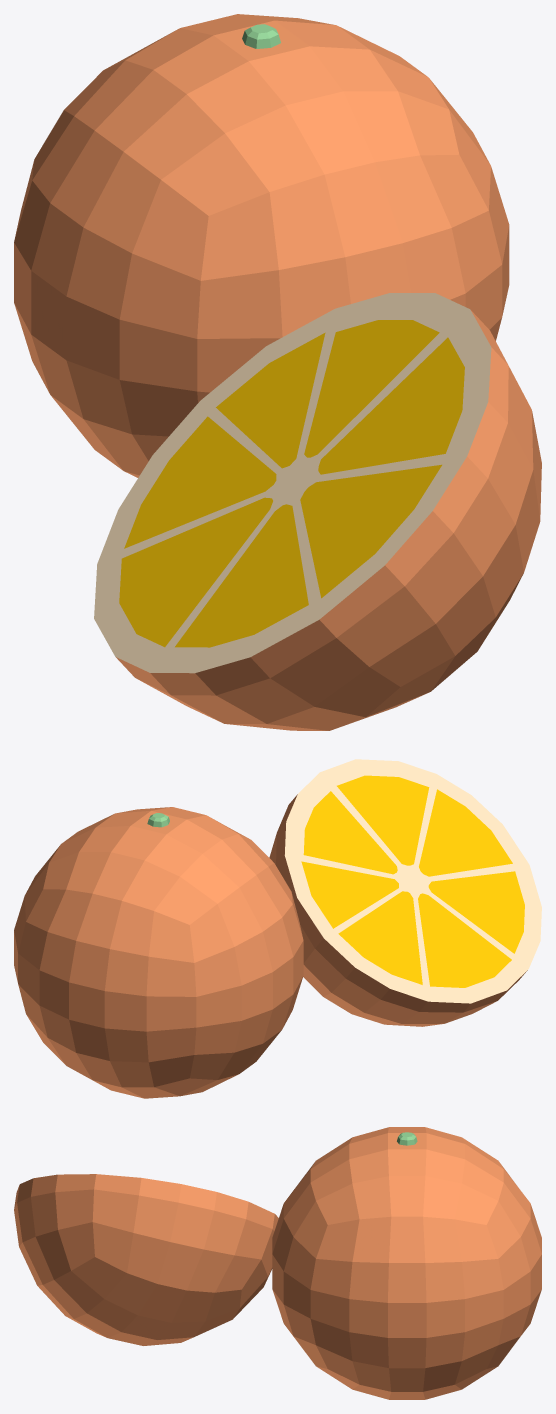
File: Orange_01.gltf
3 views of the same model, one above another, from view 1: azimuth 30°, elevation 25°; view 2: azimuth 150°, elevation 25°; view 3: azimuth 270°, elevation 25° (orthographic). The views are drawn at different scales.
Parts seen in each view (by area): view 1: node-0; view 2: node-0; view 3: node-0.
Part boxes in pixels (x1,y1,x2,y2): node-0: (14,14,541,730); node-0: (14,759,541,1098); node-0: (14,1127,541,1399).
Size of the model in its own units: 6.93 by 5.19 by 9.87.
